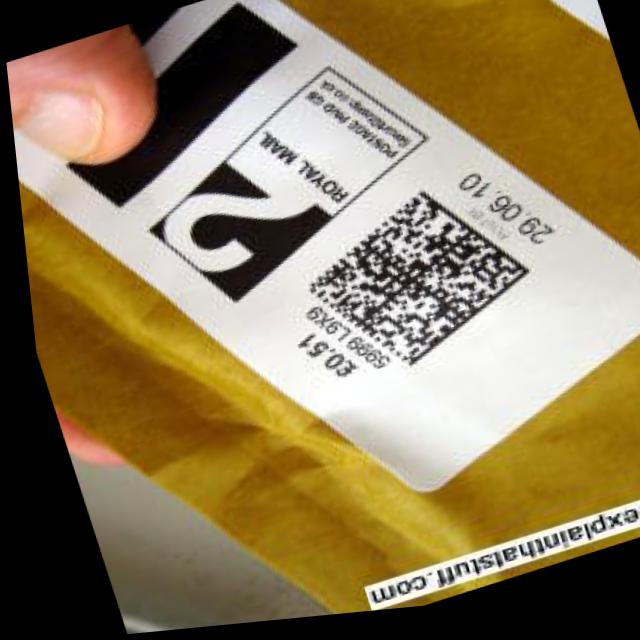datamatrix: (277, 172, 544, 399)
